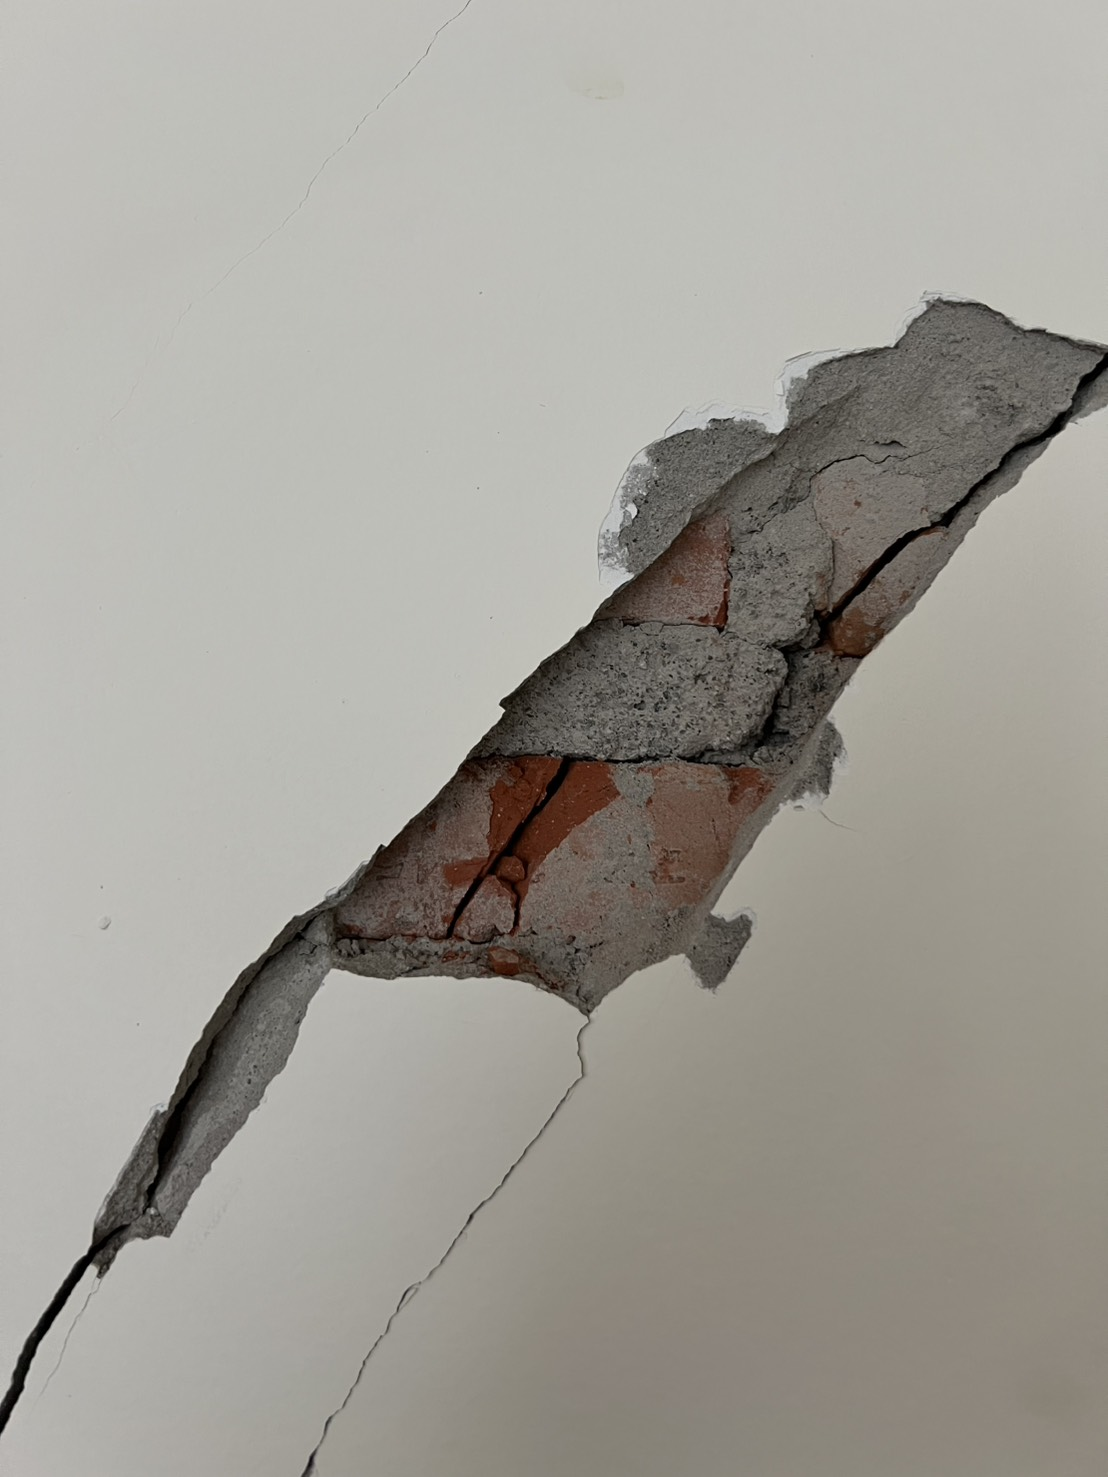Medium: (24, 284, 1061, 1351)
